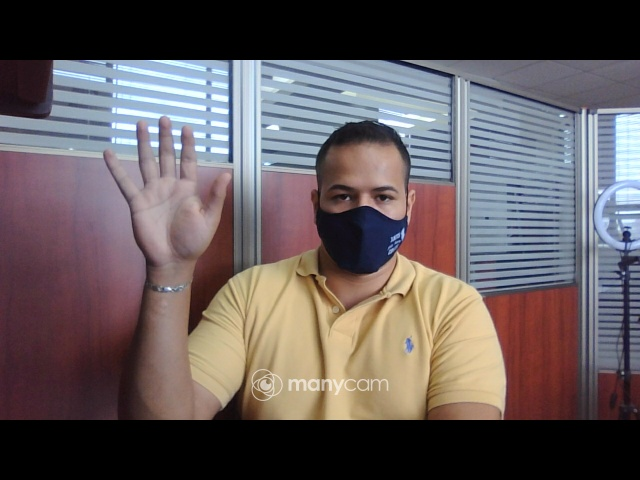Hello: (94, 114, 236, 269)
